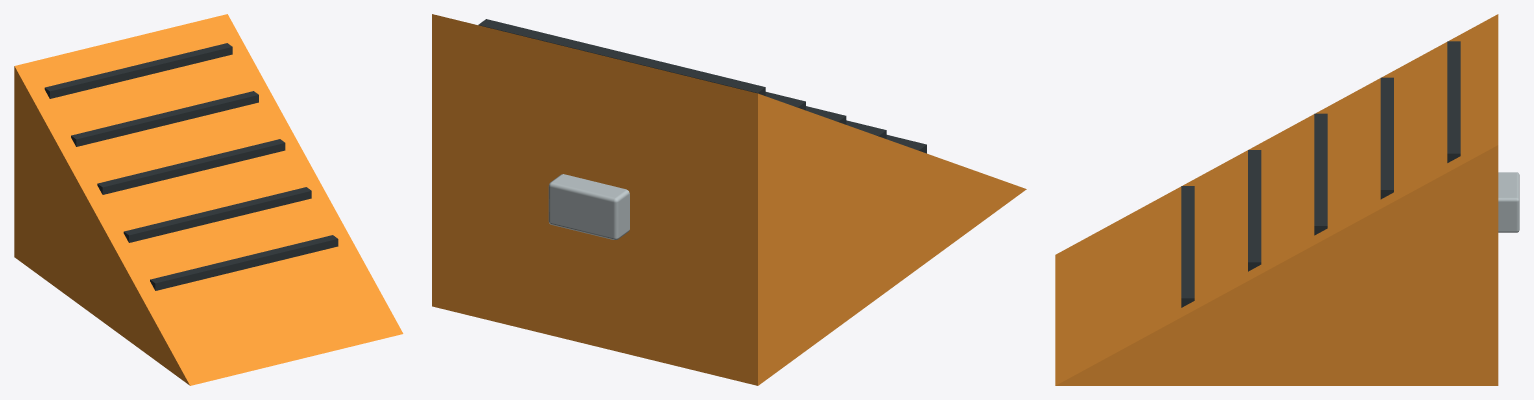
File: container-inspection-and-customs-yard-container-inspec-8dbd2418__29299.glb
3 views of the same model, side by side, from view 1: azimuth 30°, elevation 25°; view 2: azimuth 150°, elevation 25°; view 3: azimuth 270°, elevation 25° (orthographic). The views are drawn at different scales.
Visible parts, largest first — view 1: container-inspection-and-customs-yard-wheel-chock; view 2: container-inspection-and-customs-yard-wheel-chock; view 3: container-inspection-and-customs-yard-wheel-chock.
Part boxes in pixels (x1,y1,x2,y2): container-inspection-and-customs-yard-wheel-chock: (14,14,403,385); container-inspection-and-customs-yard-wheel-chock: (432,14,1026,385); container-inspection-and-customs-yard-wheel-chock: (1055,14,1519,385).
Bounding box in the file's own units: 0.28 × 0.24 × 0.4195.
